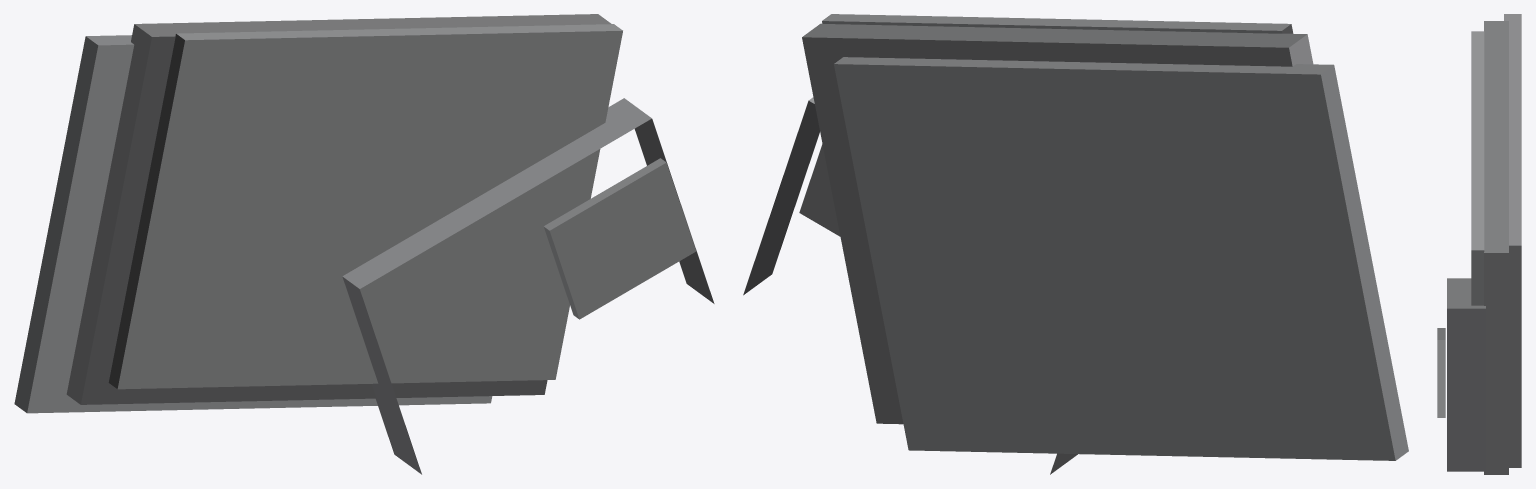
3 renders of one model, left to right at view 1: azimuth 30°, elevation 25°; view 2: azimuth 150°, elevation 25°; view 3: azimuth 270°, elevation 25°, orthographic. The views are drawn at different scales.
Size of the model in its own units: 0.6777 by 0.4787 by 0.109.
